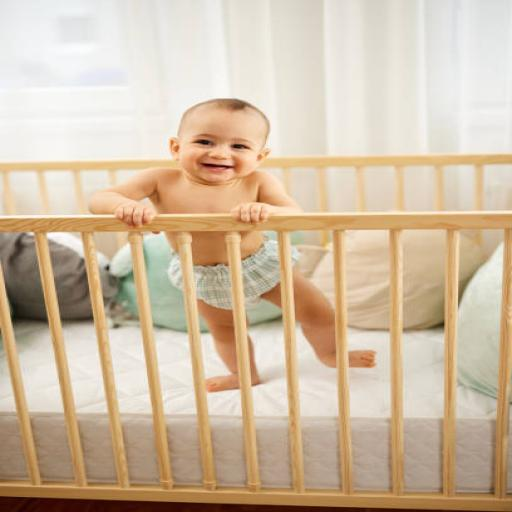baby: (90, 99, 301, 226)
crib: (0, 155, 511, 510)
